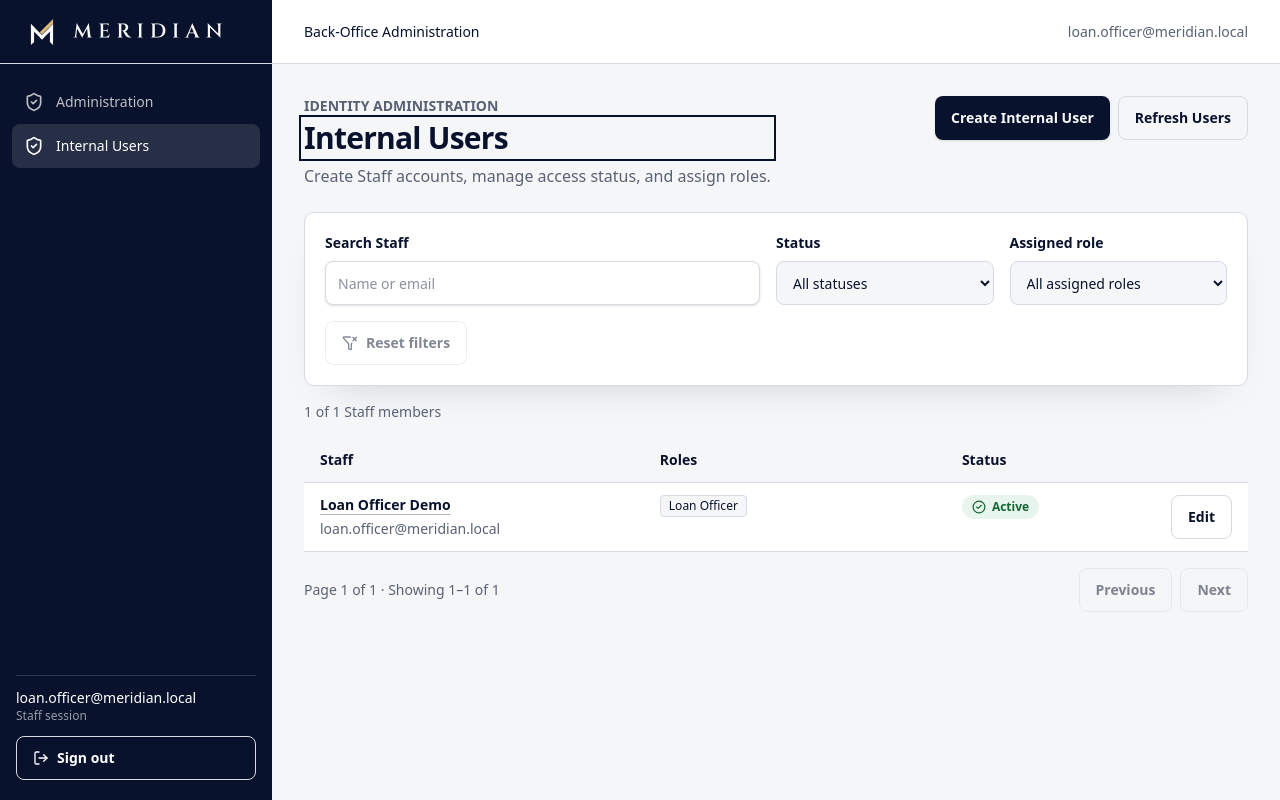
Test: Internal User administration page › does not retry an unknown status result and preserves the last confirmed state while refreshing
Click the button with aria-label "Manage Loan Officer Demo".
click(385, 505)  # box [320,495,451,515]
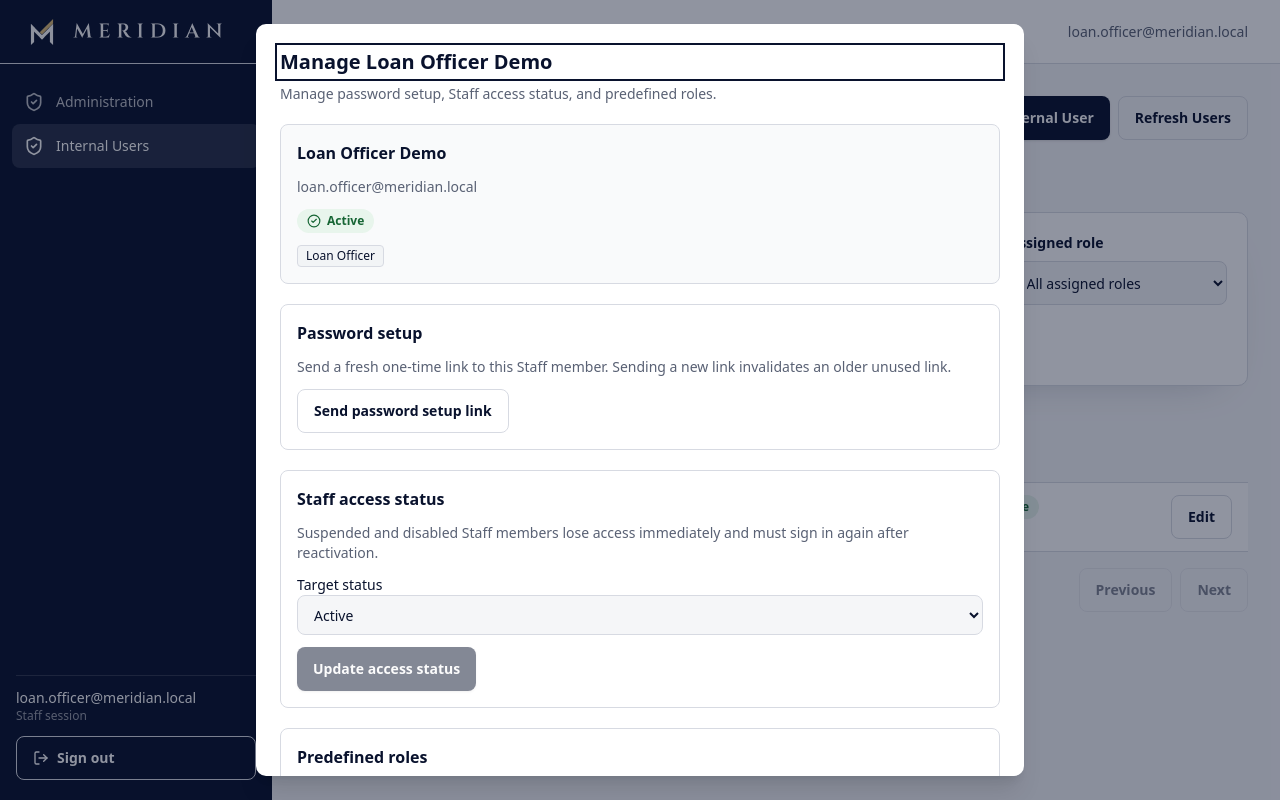
Select "Disabled" in the dropdown labelled "Target status" at (640, 615), box [297,595,983,635]
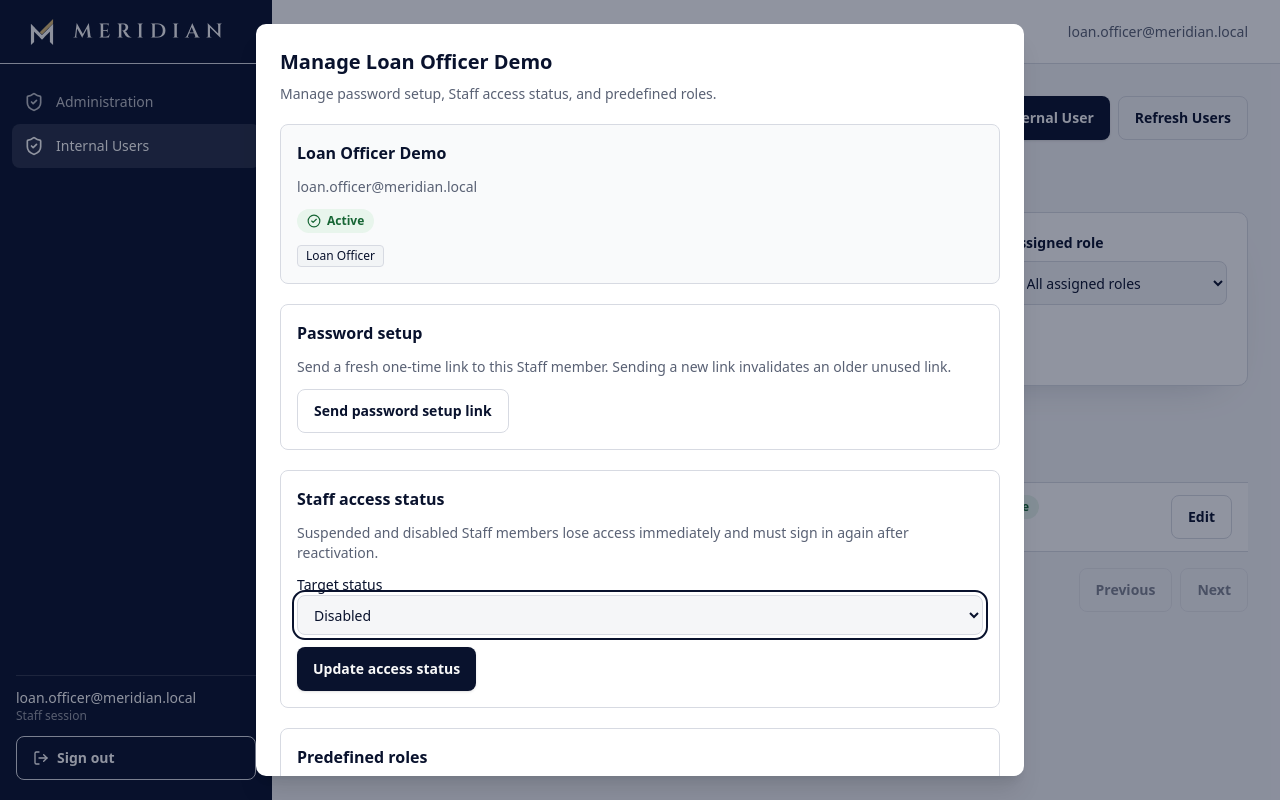
Click the button "Update access status".
click(387, 669)  # box [297,647,476,691]
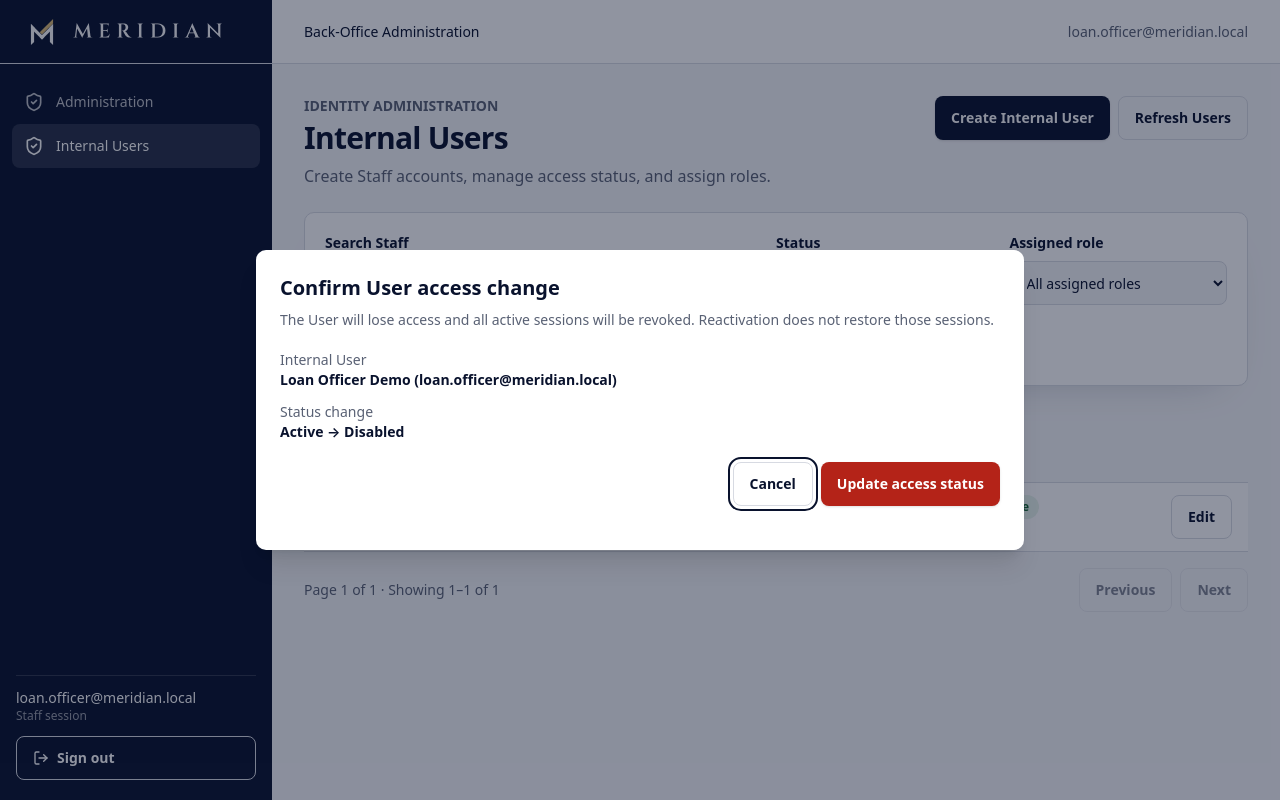
Click the button "Update access status".
click(910, 484)  # box [821,462,1000,506]
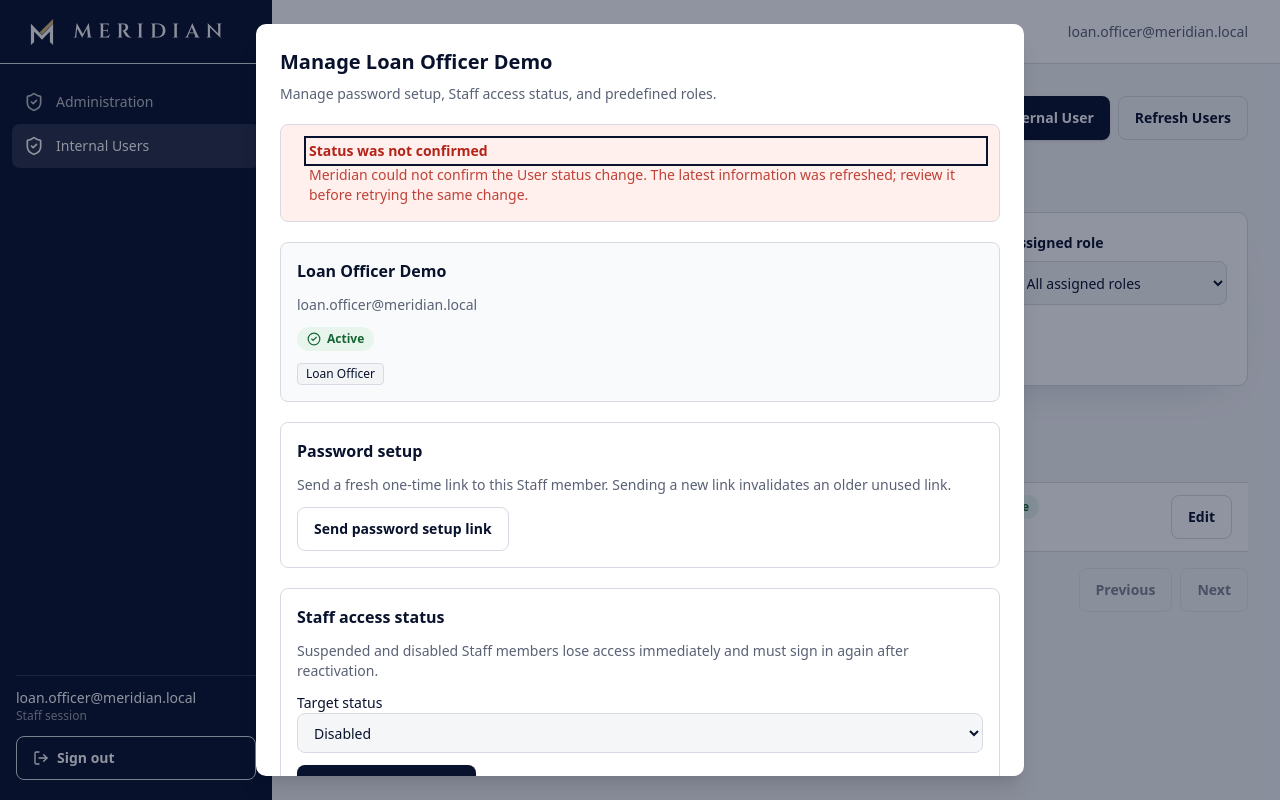
Expected: the heading "Status was not confirmed" is shown, [309,141,488,160]
